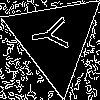Y: (29, 14, 77, 54)
